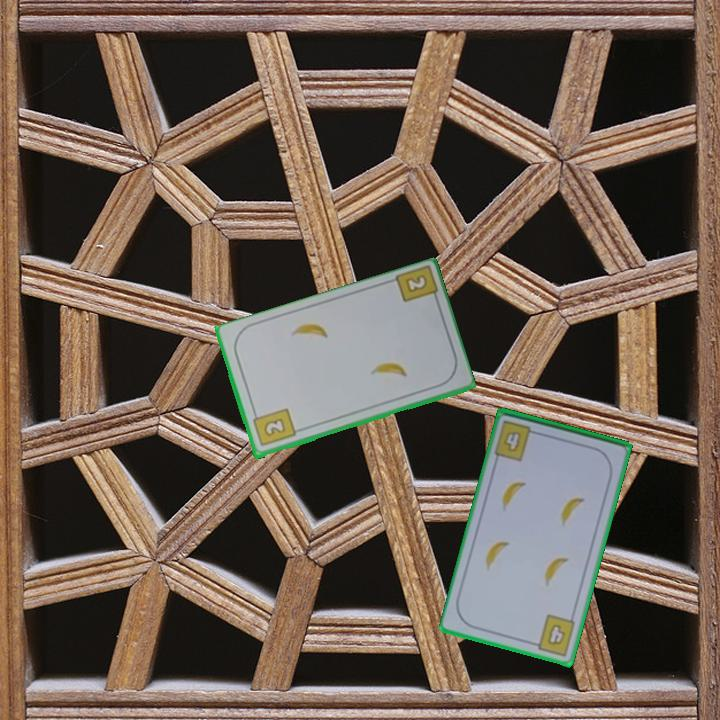2b: (249, 405, 298, 450), (402, 271, 430, 296)
4b: (528, 611, 578, 659), (491, 417, 542, 464)
